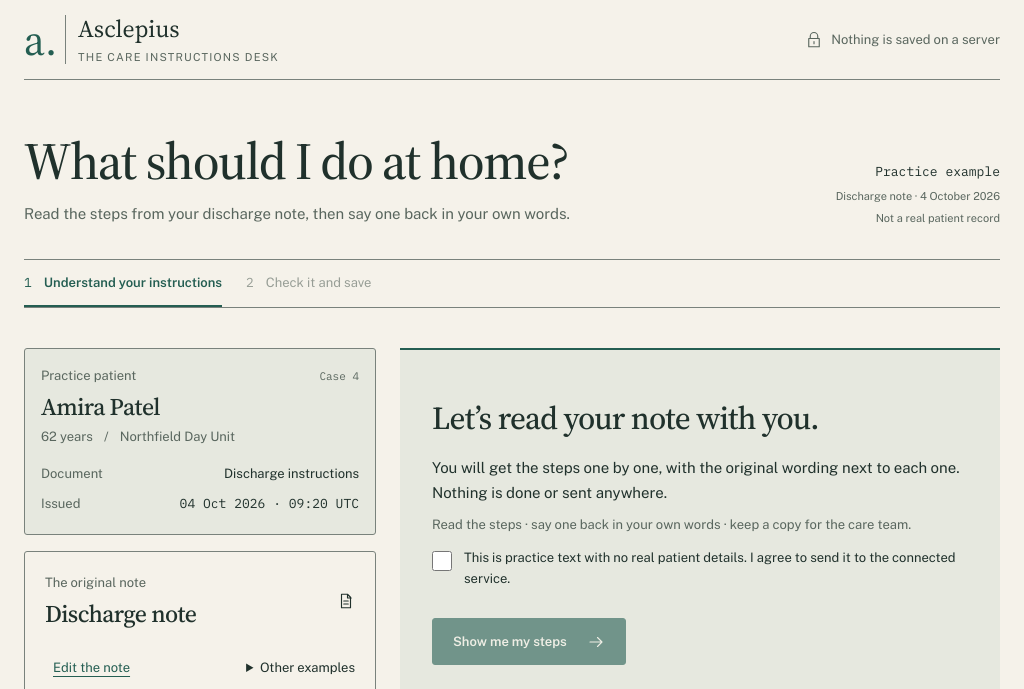
Test case: Editorial patient journey › makes uncertain assessments explicit without fabricated confidence or evidence
The image size is (1024, 689).
Click the checkbox labelled "This is practice text".
click(442, 561)  # box x1=432 y1=551 x2=452 y2=571
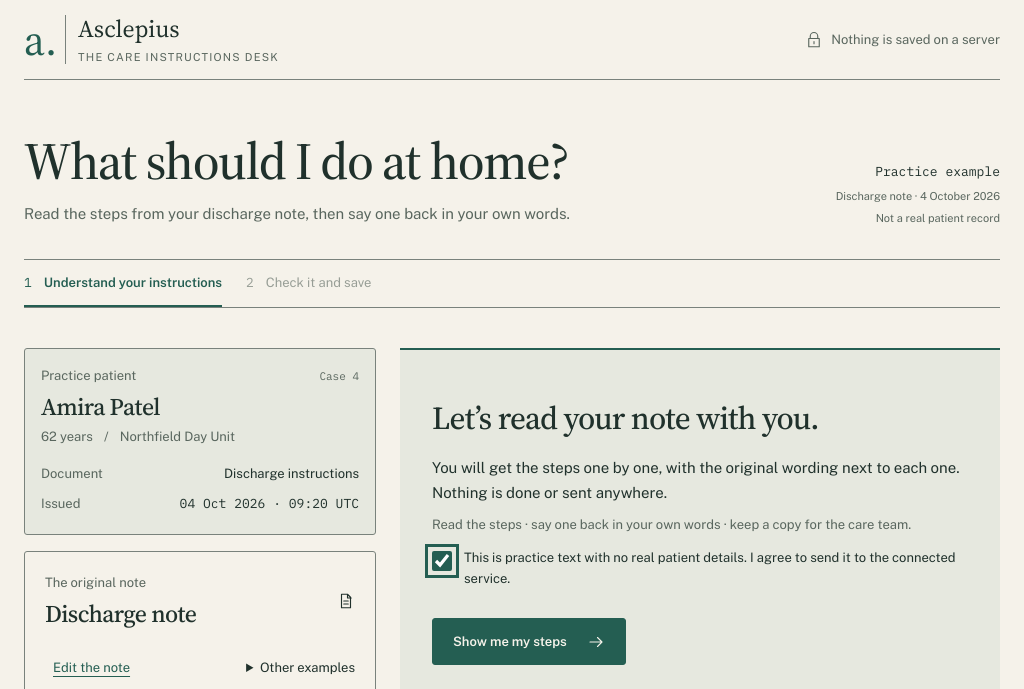
Click the button "Show me my steps".
click(529, 642)  # box x1=432 y1=618 x2=626 y2=665
(page scrolled)
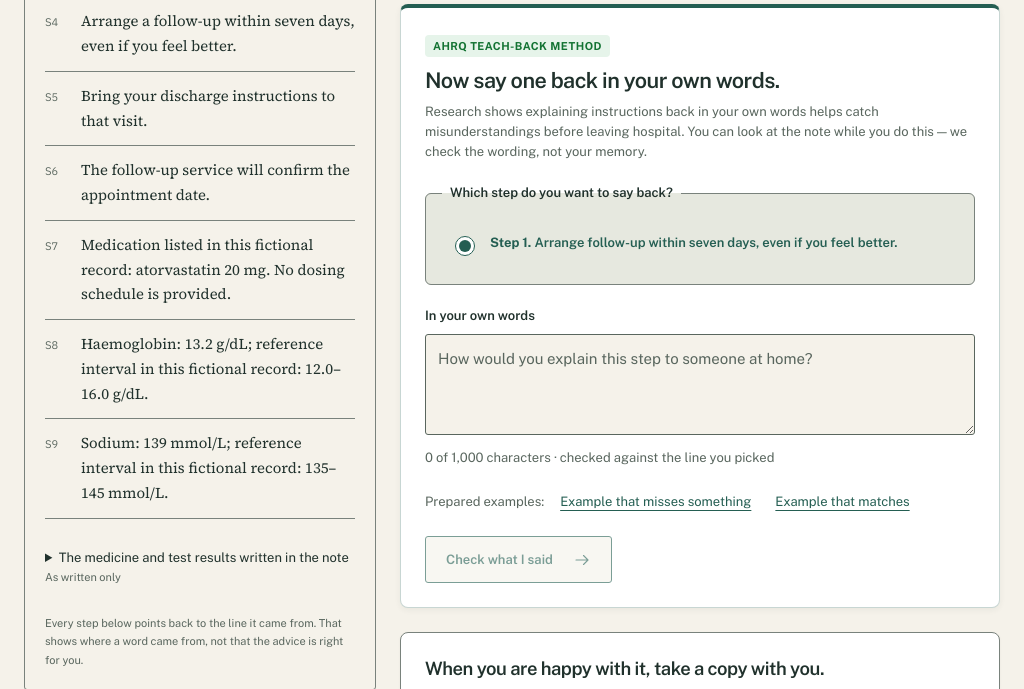
Type "I am not sure." into the text box labelled "In your own words".
click(700, 384); type("I am not sure.")  # box x1=425 y1=334 x2=975 y2=435
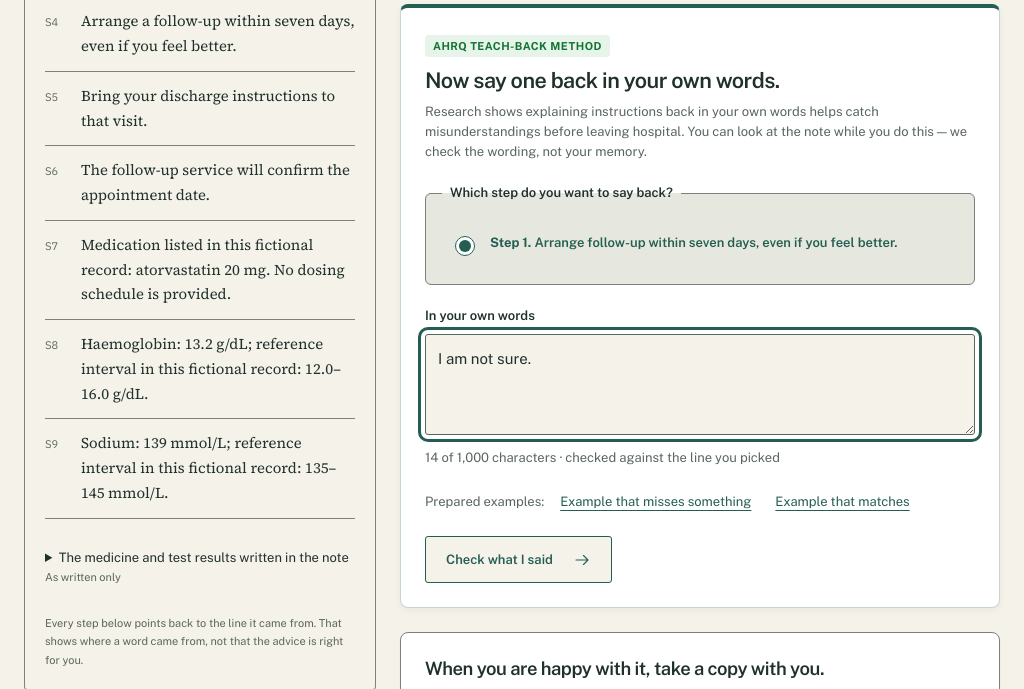
Click the button "Check what I said".
click(518, 560)  # box x1=425 y1=536 x2=612 y2=583
(page scrolled)
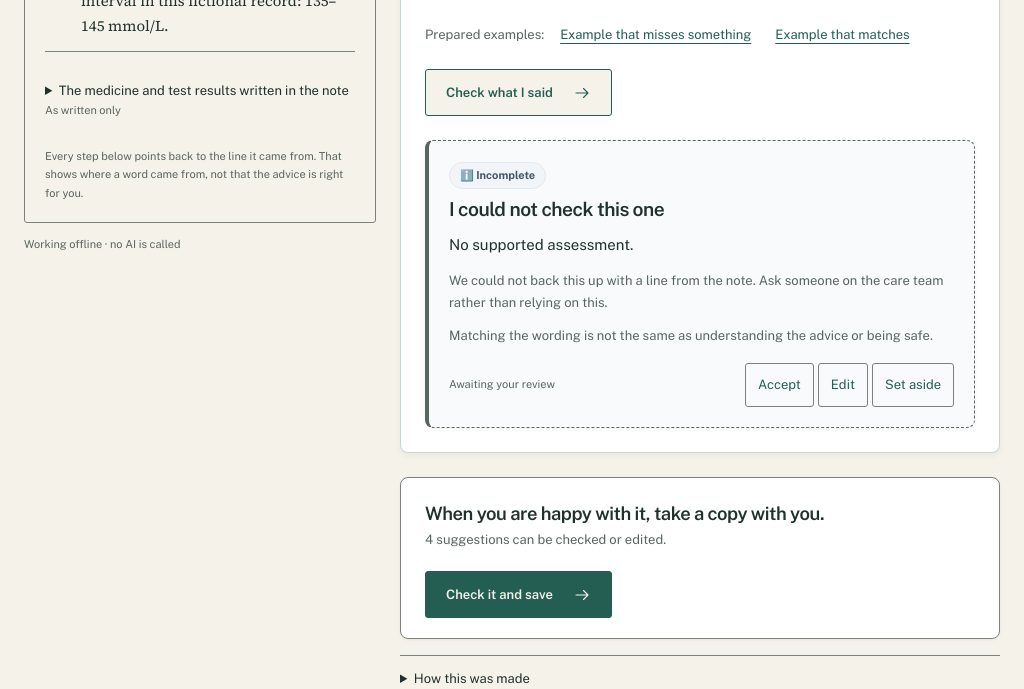
Now the heading "I could not check this one" is shown, box x1=449 y1=198 x2=664 y2=220
Now the text "We could not back this up with a line from the note" is shown, box x1=449 y1=273 x2=943 y2=310
Now the button with aria-label "Override comparison" is shown, box x1=872 y1=362 x2=954 y2=406
